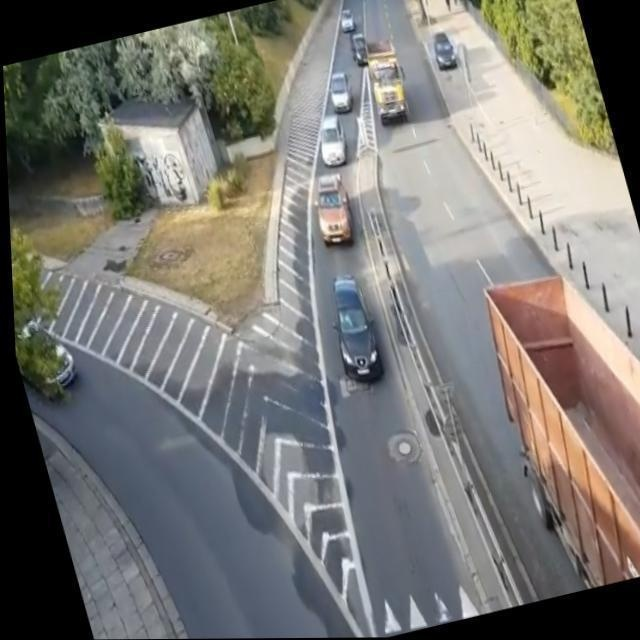Car: (328, 274, 388, 398), (310, 168, 354, 248), (316, 119, 351, 171), (328, 71, 356, 119), (433, 34, 463, 72), (350, 35, 376, 68), (336, 8, 359, 36)
Truck: (486, 267, 640, 597), (366, 42, 419, 130)
